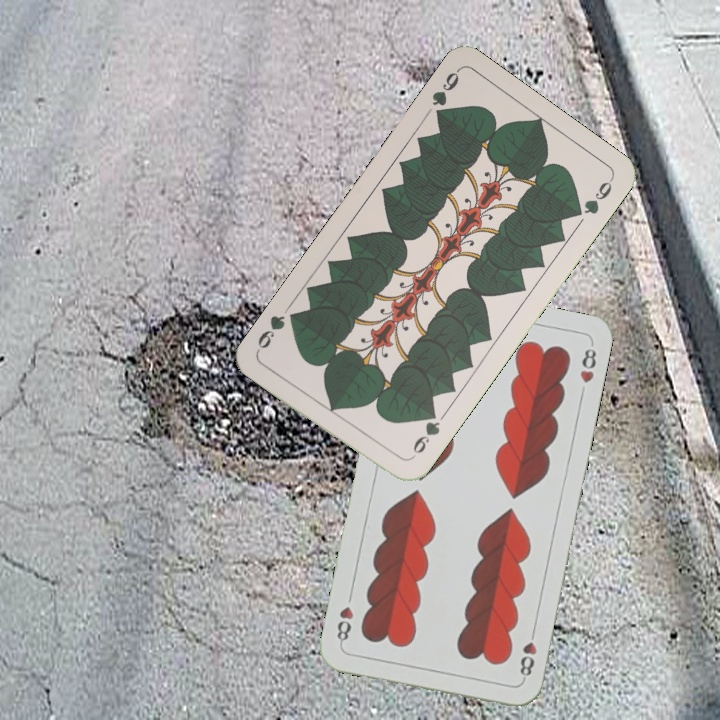G9: (405, 406, 443, 462), (428, 66, 462, 124)
H8: (515, 624, 539, 683)
